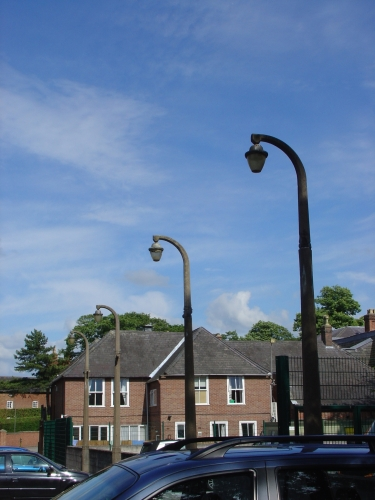light_pole: (273, 129, 330, 446), (164, 231, 208, 448), (100, 300, 126, 472), (73, 328, 95, 479)
